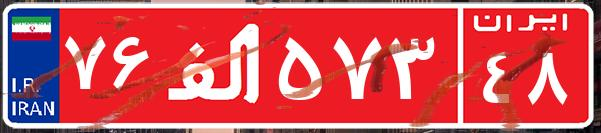3: (385, 28, 445, 110)
4: (475, 38, 525, 113)
5: (273, 28, 330, 110)
6: (110, 28, 158, 105)
7: (330, 28, 385, 110), (57, 26, 110, 107)
8: (525, 38, 570, 115)
الف: (158, 15, 273, 115)
